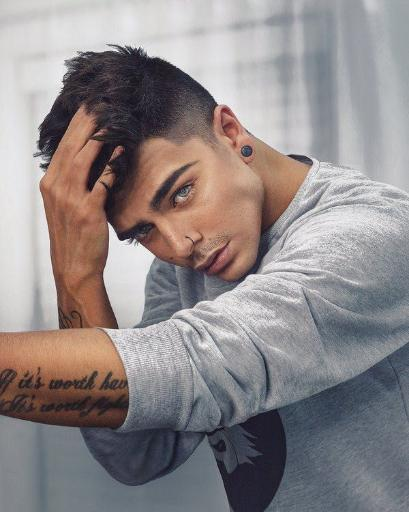left_eye: (168, 182, 197, 208)
left_lip_corner: (223, 240, 236, 253)
right_eye: (136, 219, 155, 242)
